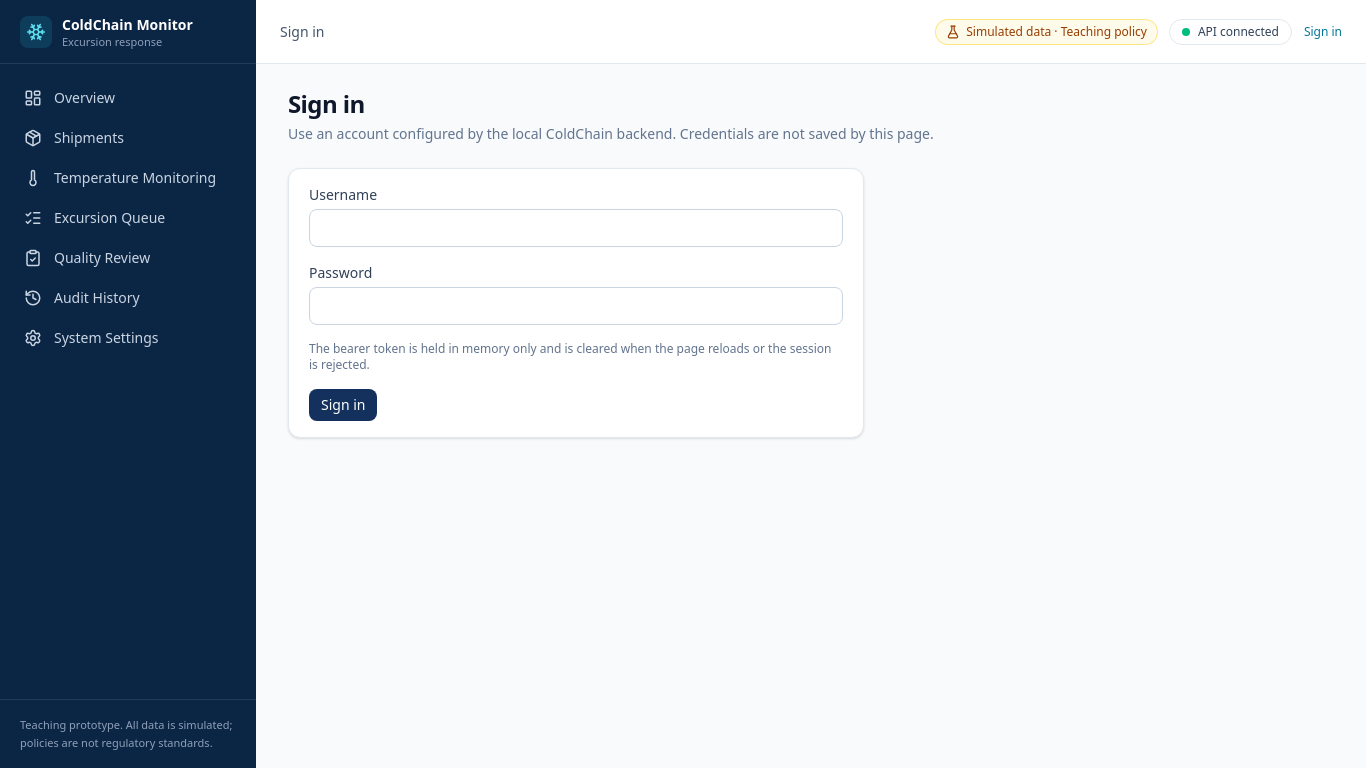
Test: authentication and quality authorization › logs in, resolves the backend identity and requires a second confirmation for disposition
The image size is (1366, 768).
Type "quality.demo" into the field labelled "Username" at [576, 228], box [309,209,843,247]
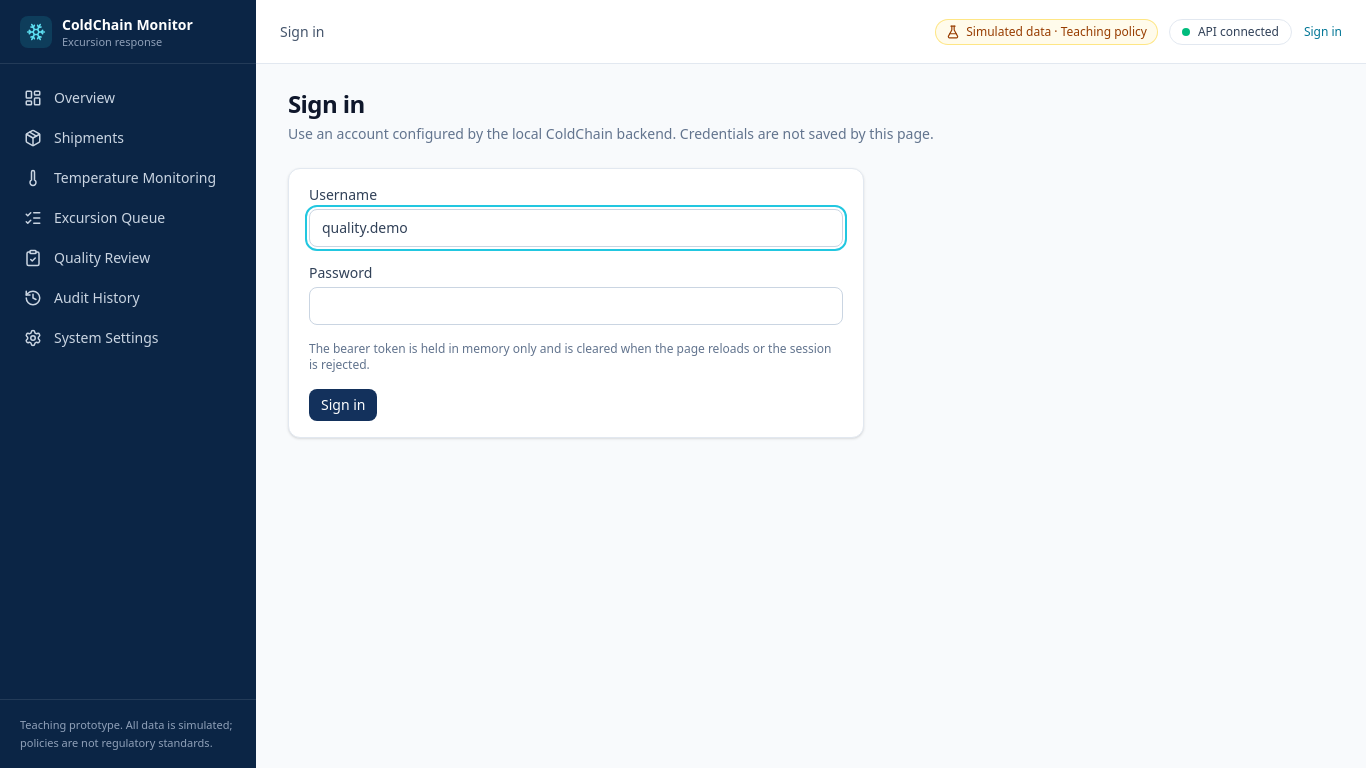
Type "local-only-password" into the password field labelled "Password" at [576, 306], box [309,287,843,325]
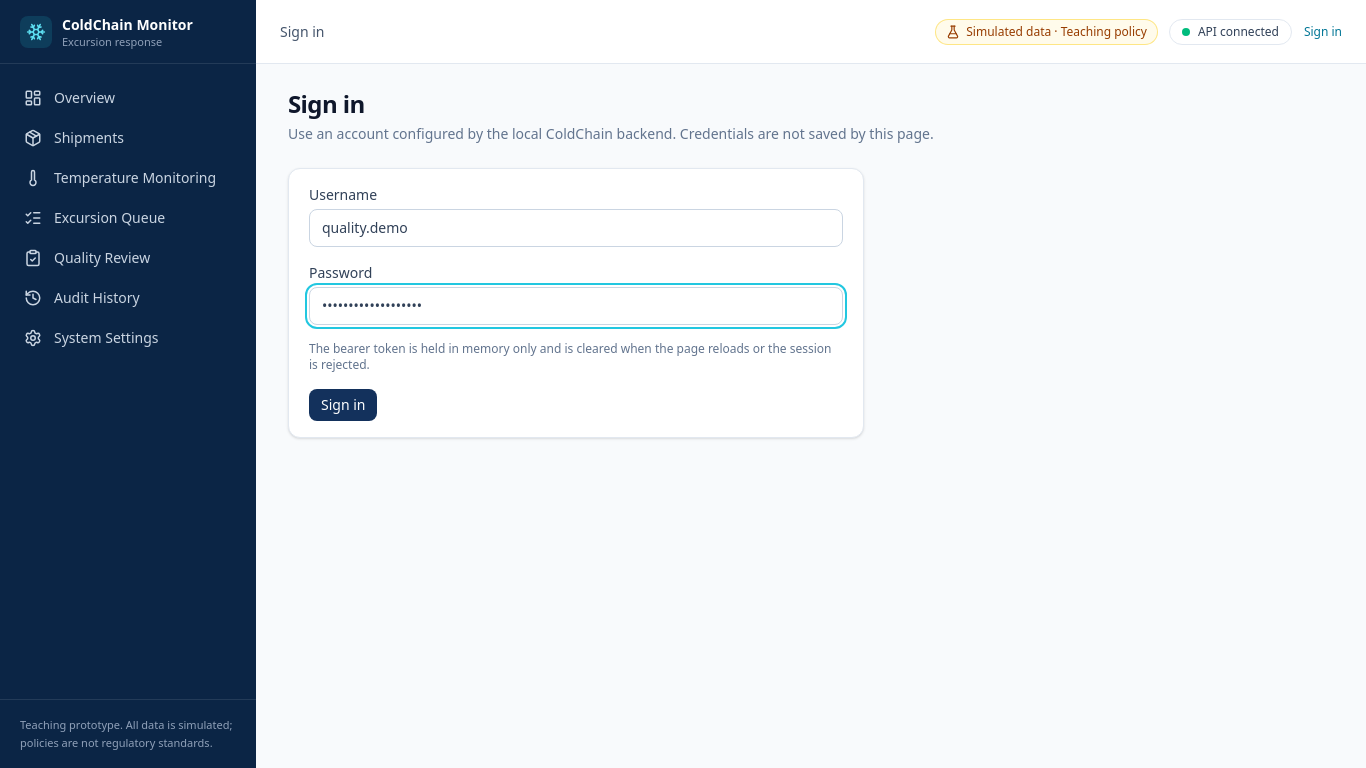
Click the button "Sign in" at [343, 405], box [309,389,378,421]
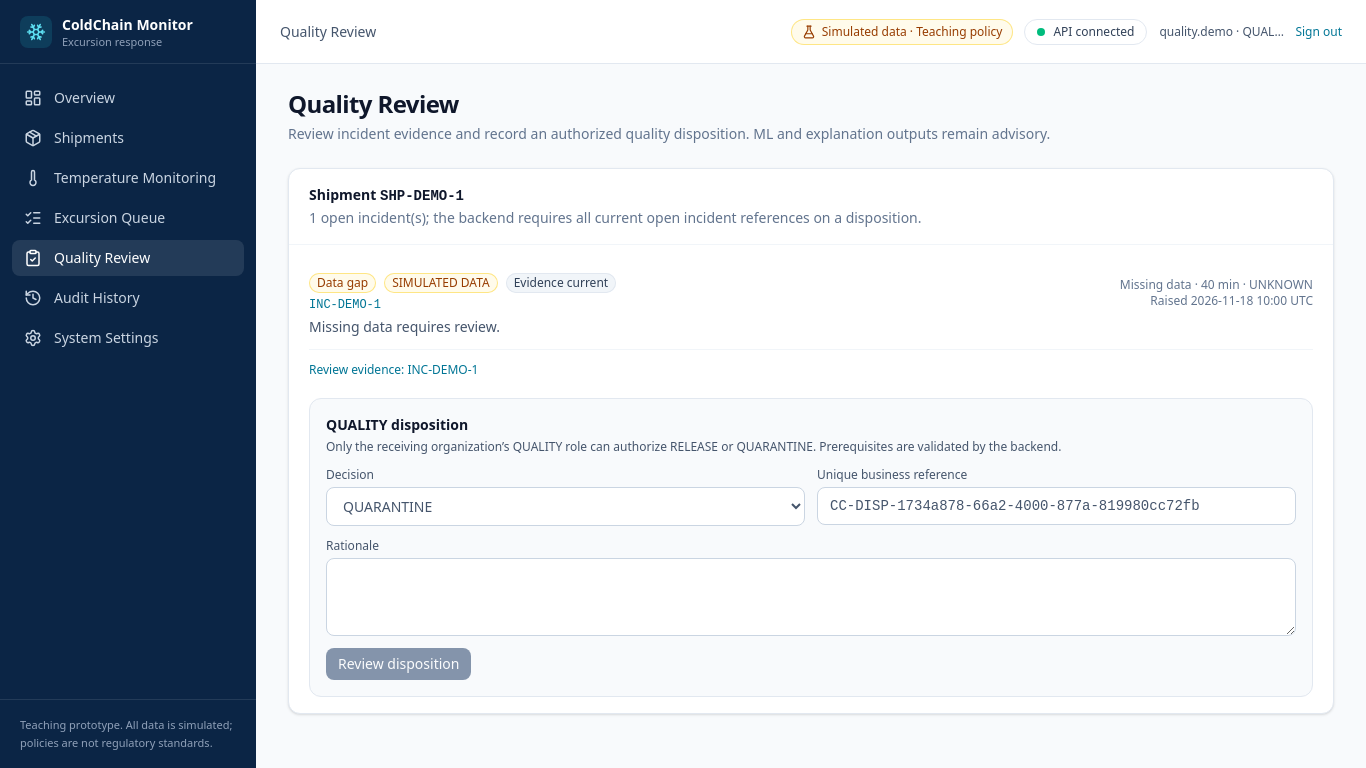
Check: the heading "QUALITY disposition" is shown, box [326,415,468,434]
Check: the text "quality.demo · QUALITY" is shown, box [1159,24,1287,40]
Type "Reviewed evidence; keep disposition advisory context separate." into the text box labelled "Rationale" at [811, 597], box [326,558,1296,636]
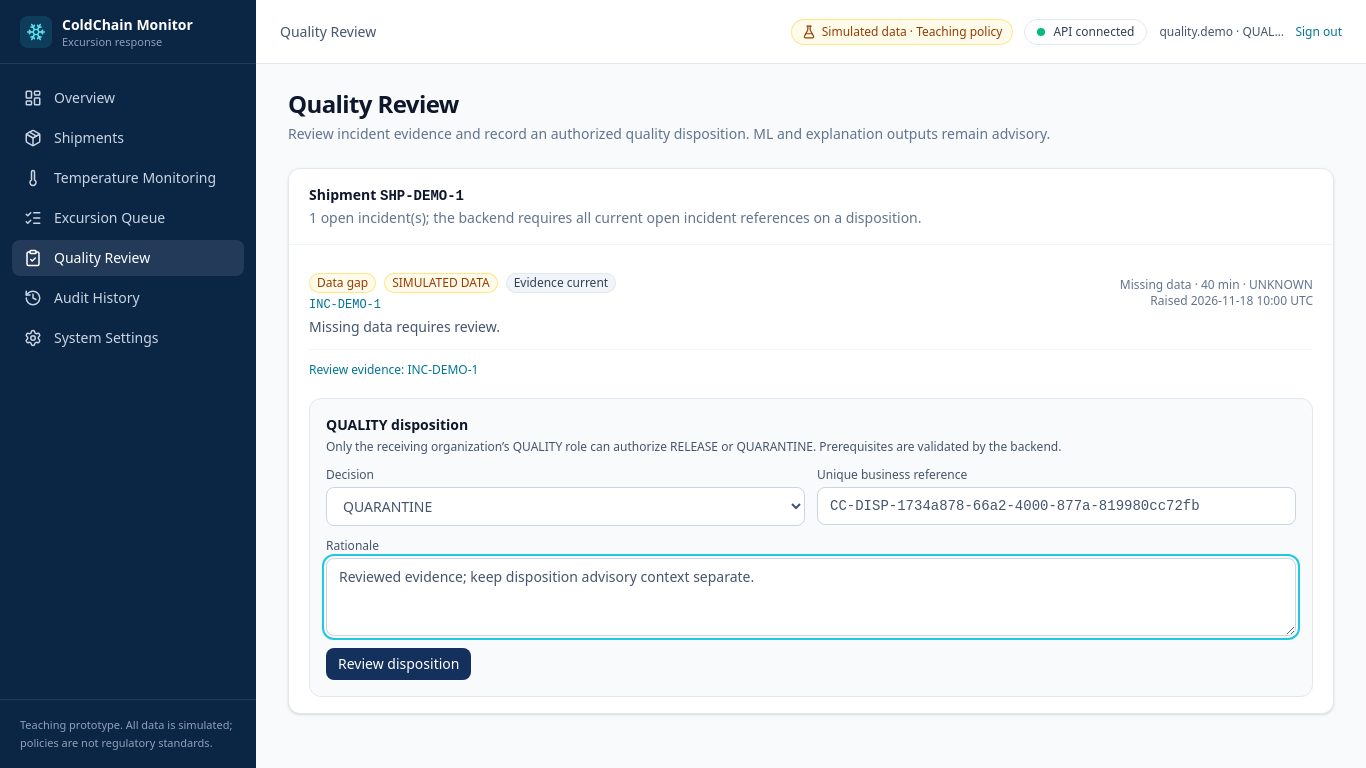
Click the button "Review disposition" at [399, 664], box [326,648,471,680]
(page scrolled)
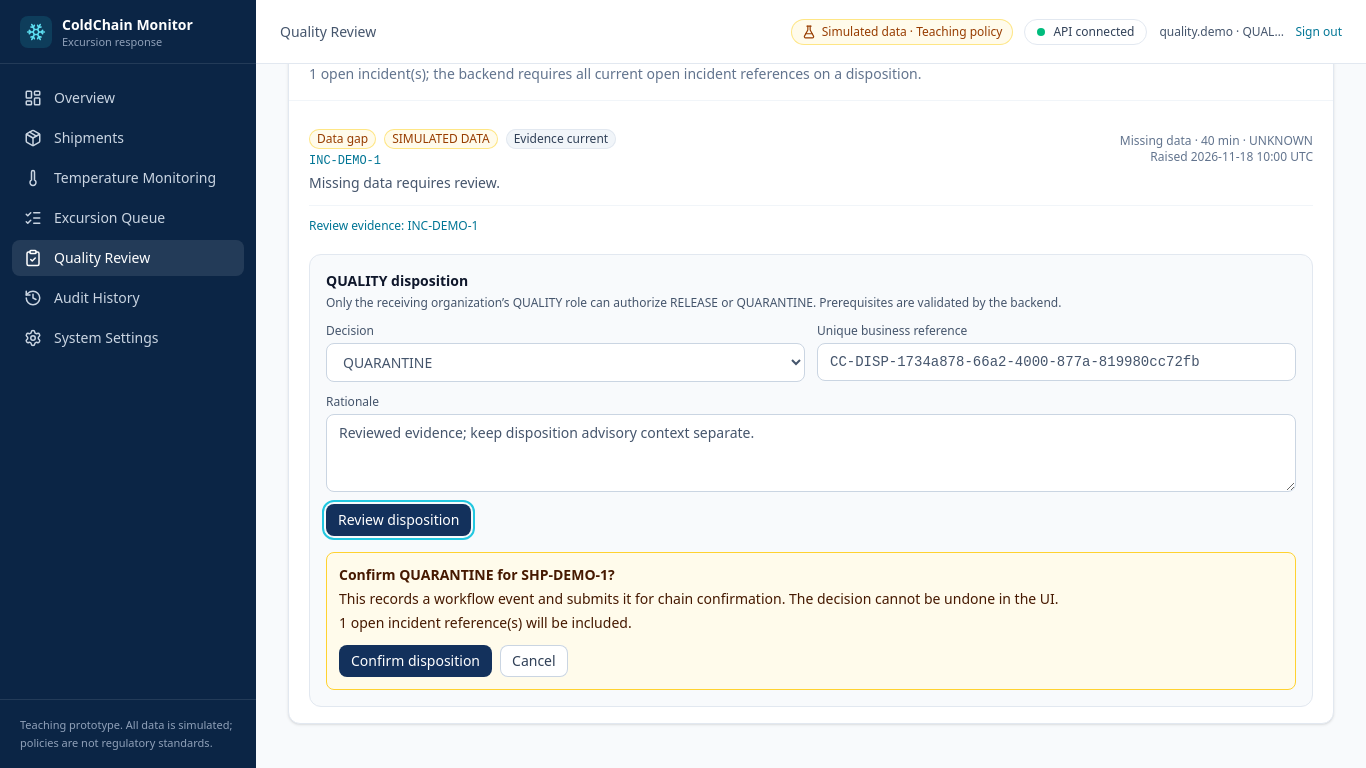
Check: the button "Confirm disposition" is shown
Click the button "Confirm disposition" at [416, 661], box [339,645,492,677]
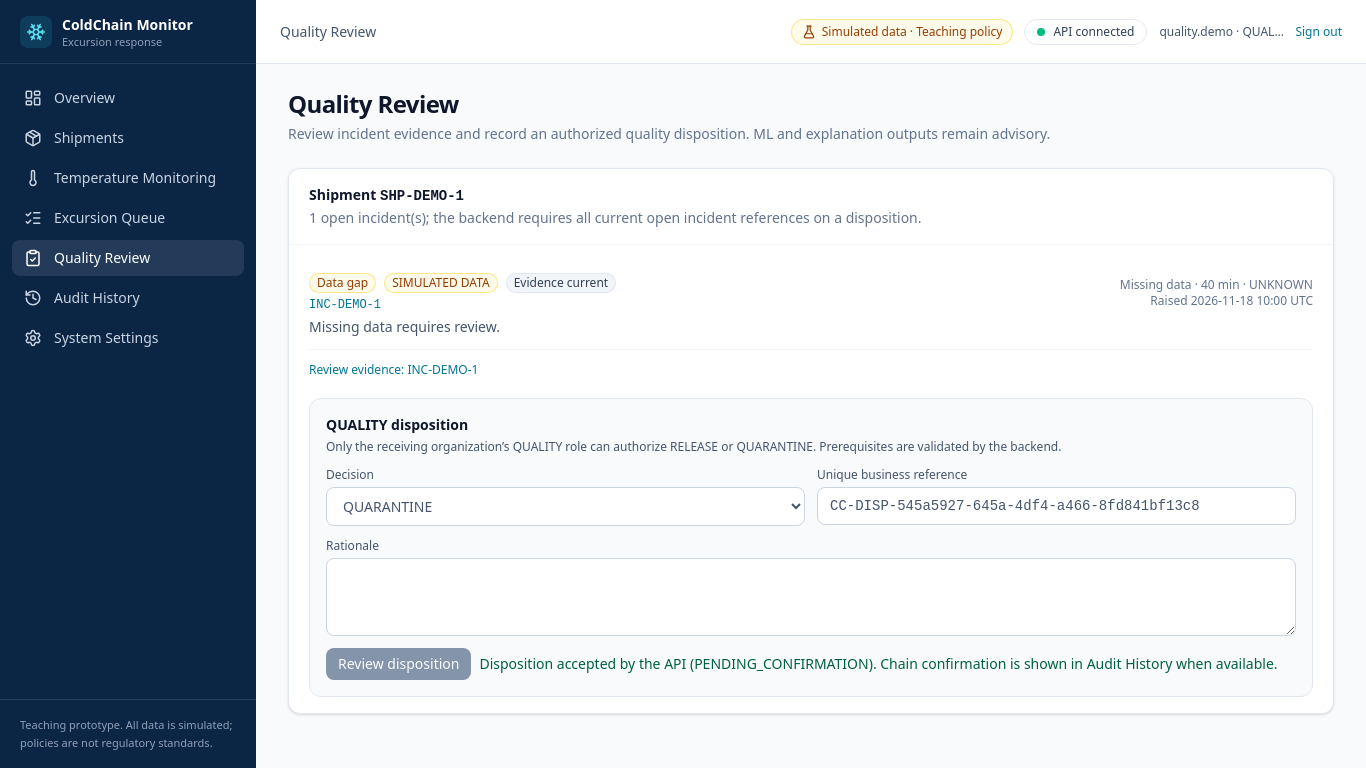
Check: the text "Disposition accepted by the API" is shown, box [479,654,1278,673]
